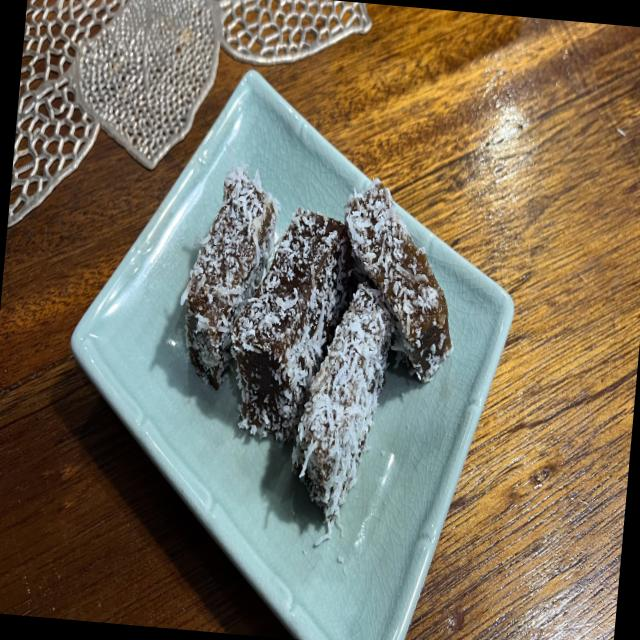kaswi: (231, 209, 357, 444), (291, 282, 393, 545), (180, 164, 280, 389), (344, 178, 451, 381)
